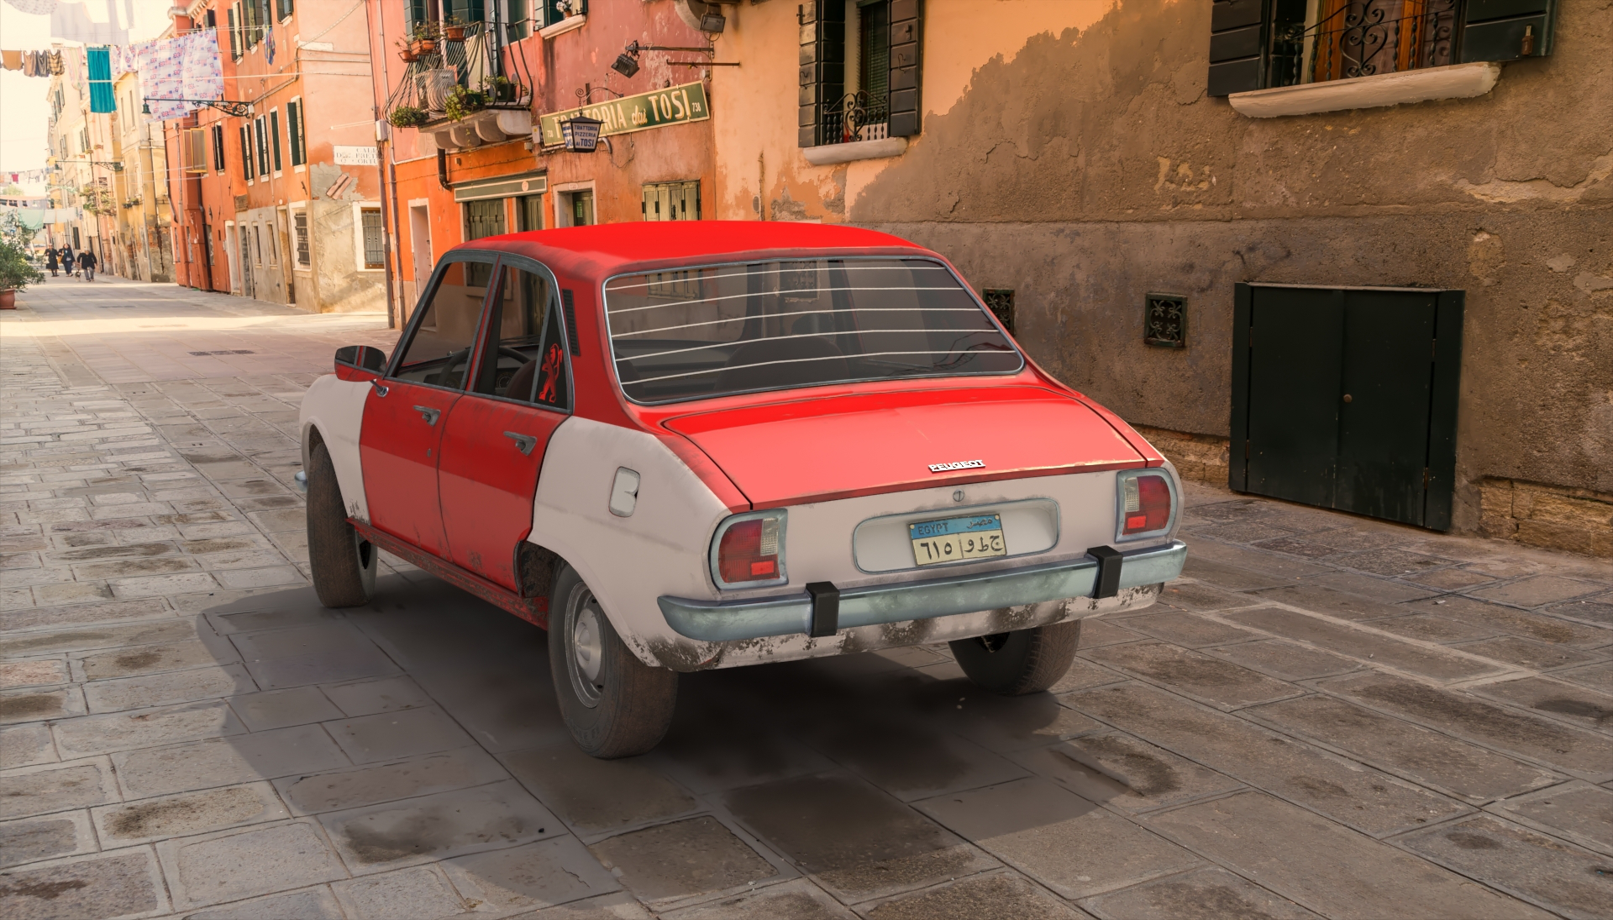hatch: (605, 460, 645, 524)
